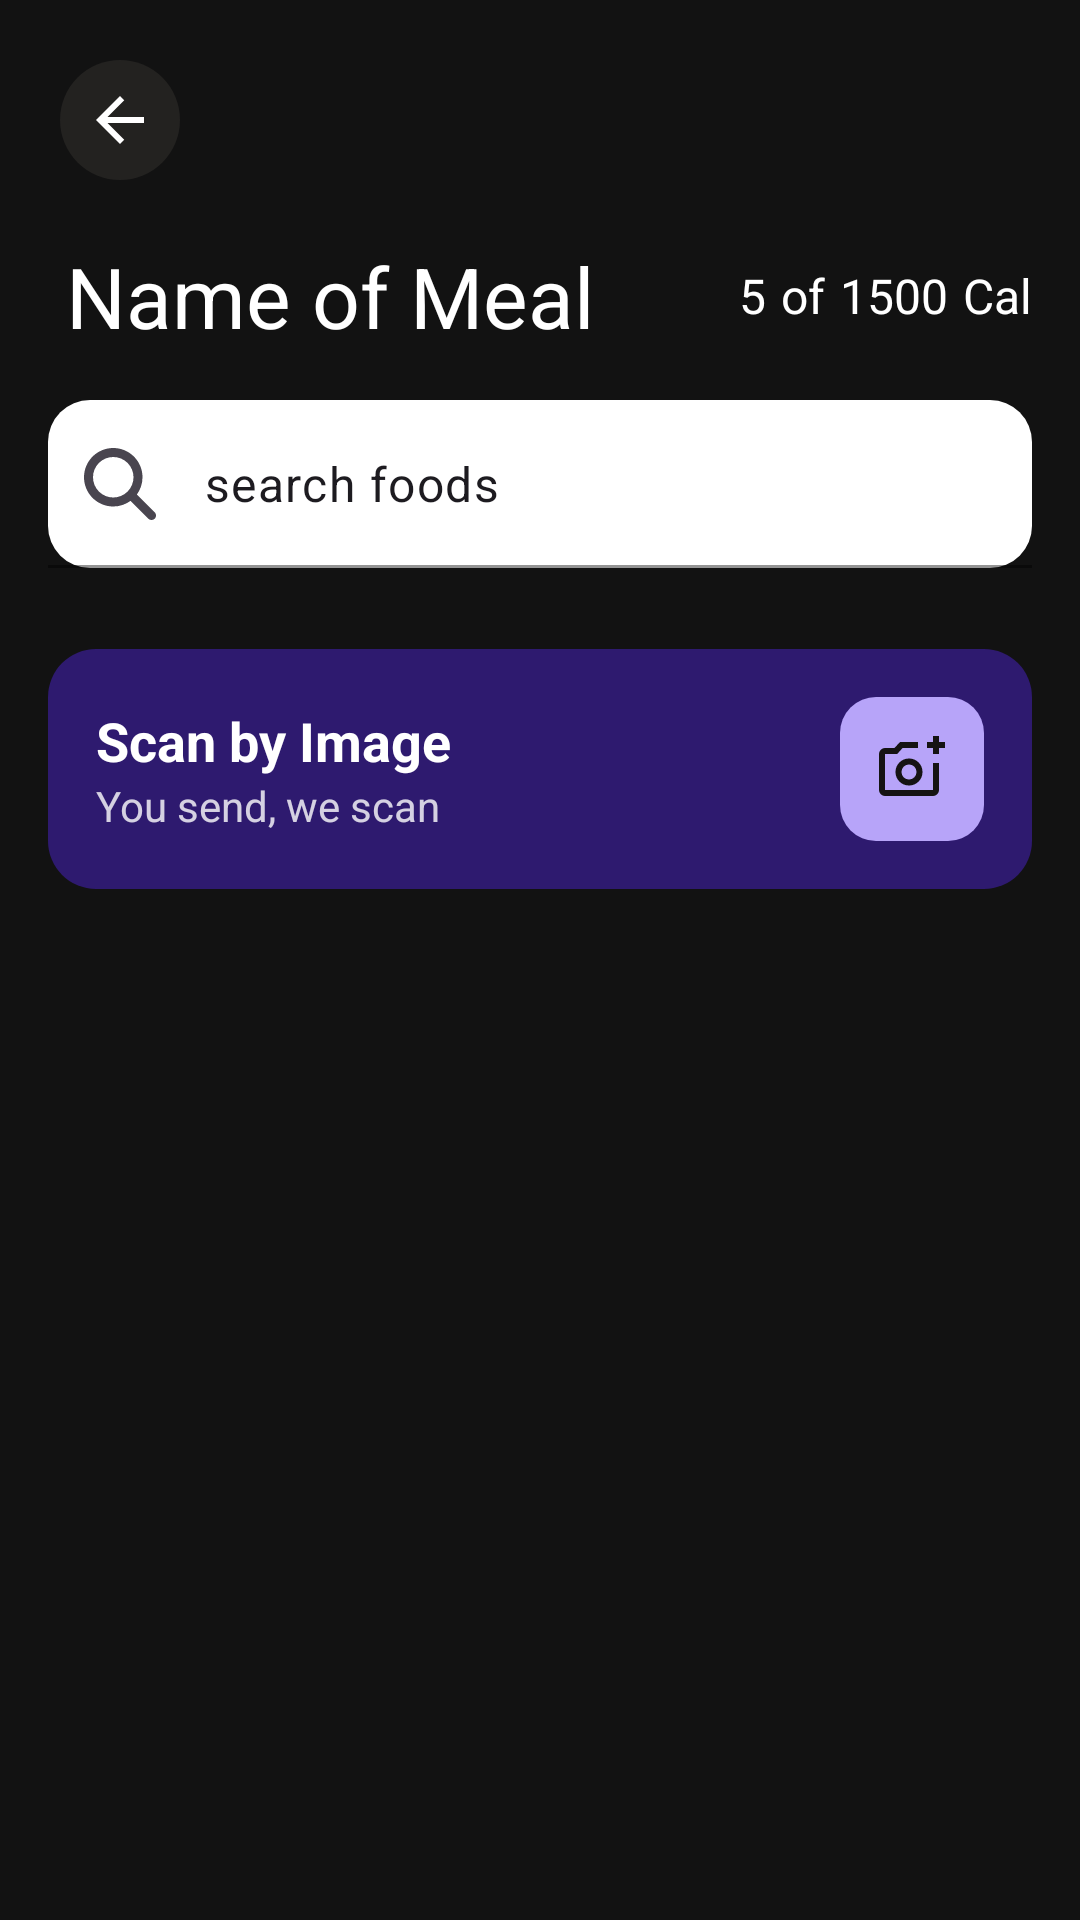

Icon click points for this 1080 x 1920 phone screenshot, format [x,y]:
arrow back: [120,120]
Scan: [912,769]
